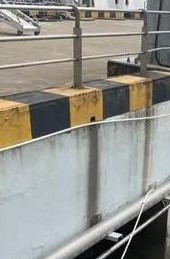Corrosion: (86, 123, 100, 227), (141, 105, 152, 196)
